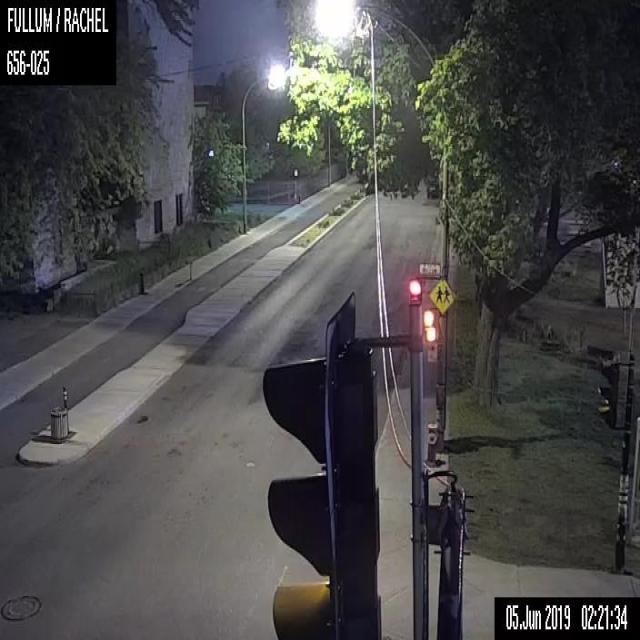vehicle: (426, 178, 439, 198)
